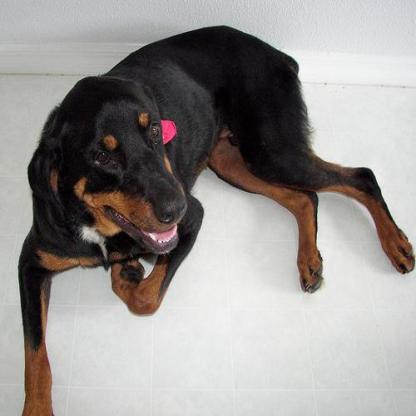Rottweiler: (17, 24, 414, 413)
